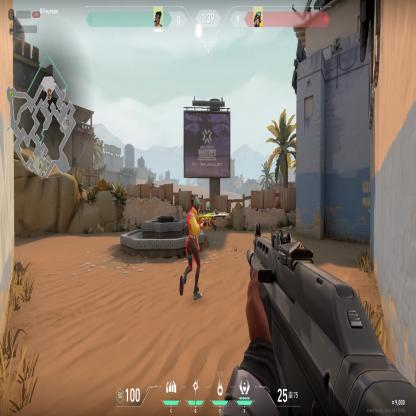enemy: (178, 194, 211, 305)
